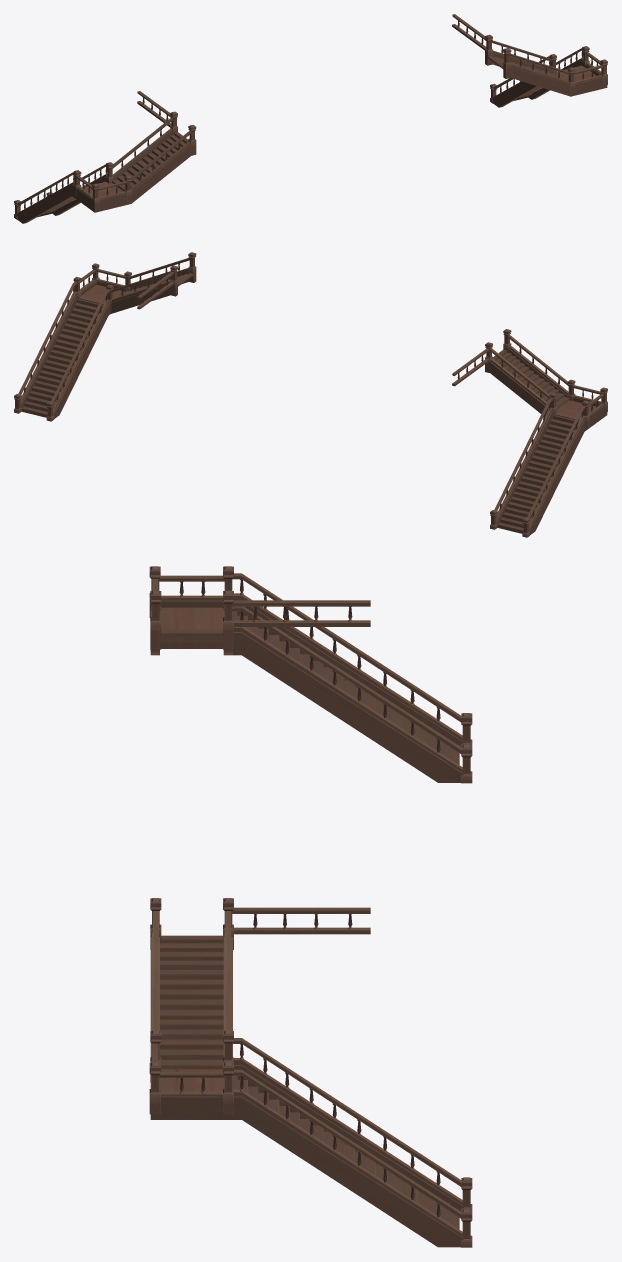
File: Homeworld_Interior_Md_Room_P_Stair_Vo.fbx
The picture shows the model from 3 angles, top to bottom: view 1: azimuth 30°, elevation 25°; view 2: azimuth 150°, elevation 25°; view 3: azimuth 270°, elevation 25°; orthographic projection. The views are drawn at different scales.
Visible parts, largest first — view 1: Homeworld_Interior_Md_Room_P_Stair_01_Vo, Homeworld_Interior_Md_Room_P_Stair_01_01_Vo; view 2: Homeworld_Interior_Md_Room_P_Stair_01_Vo, Homeworld_Interior_Md_Room_P_Stair_01_01_Vo; view 3: Homeworld_Interior_Md_Room_P_Stair_01_01_Vo, Homeworld_Interior_Md_Room_P_Stair_01_Vo.
Part boxes in pixels (x1,y1,x2,y2): Homeworld_Interior_Md_Room_P_Stair_01_Vo: (14,91,196,223); Homeworld_Interior_Md_Room_P_Stair_01_01_Vo: (452,14,607,107); Homeworld_Interior_Md_Room_P_Stair_01_Vo: (452,329,607,537); Homeworld_Interior_Md_Room_P_Stair_01_01_Vo: (14,252,196,421); Homeworld_Interior_Md_Room_P_Stair_01_01_Vo: (149,898,472,1247); Homeworld_Interior_Md_Room_P_Stair_01_Vo: (149,566,472,783).
Bounding box in the file's own units: 24.51 × 5.76 × 6.67.
